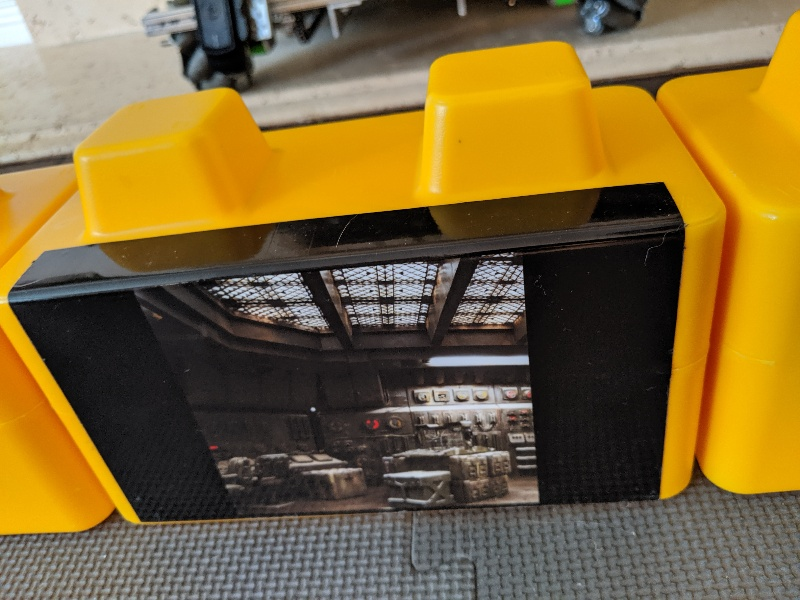Skystone: (6, 176, 690, 529)
